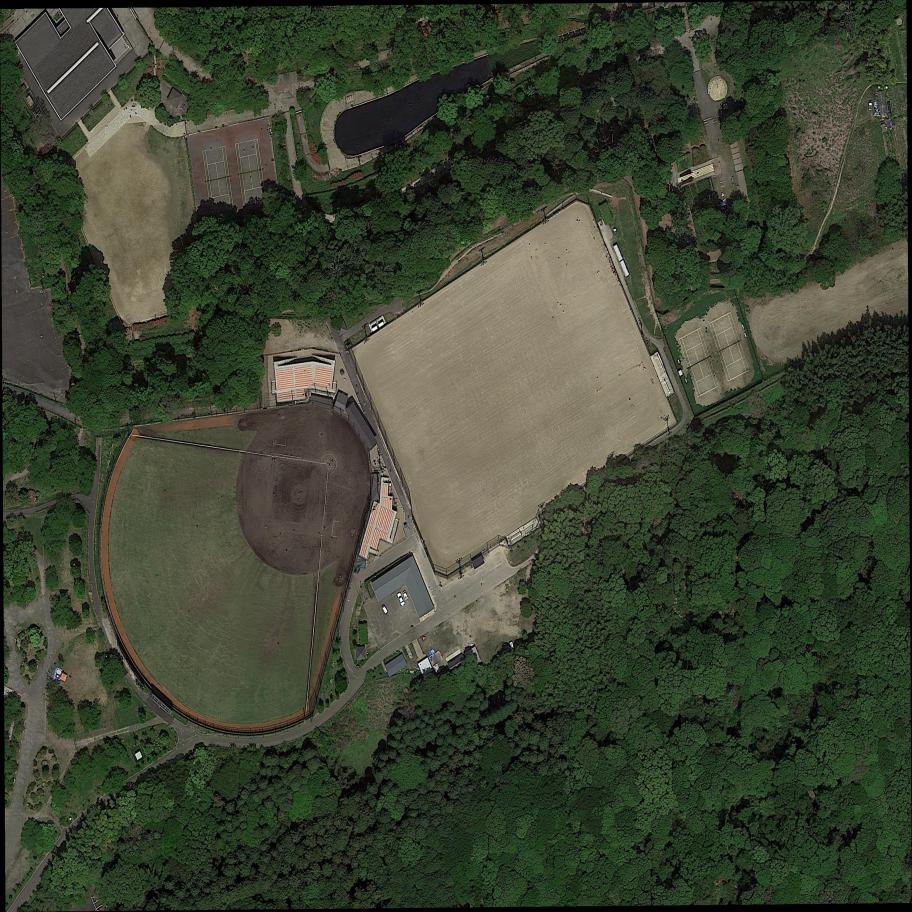small-vehicle: (396, 592, 406, 607), (402, 591, 409, 601), (381, 605, 388, 614)
